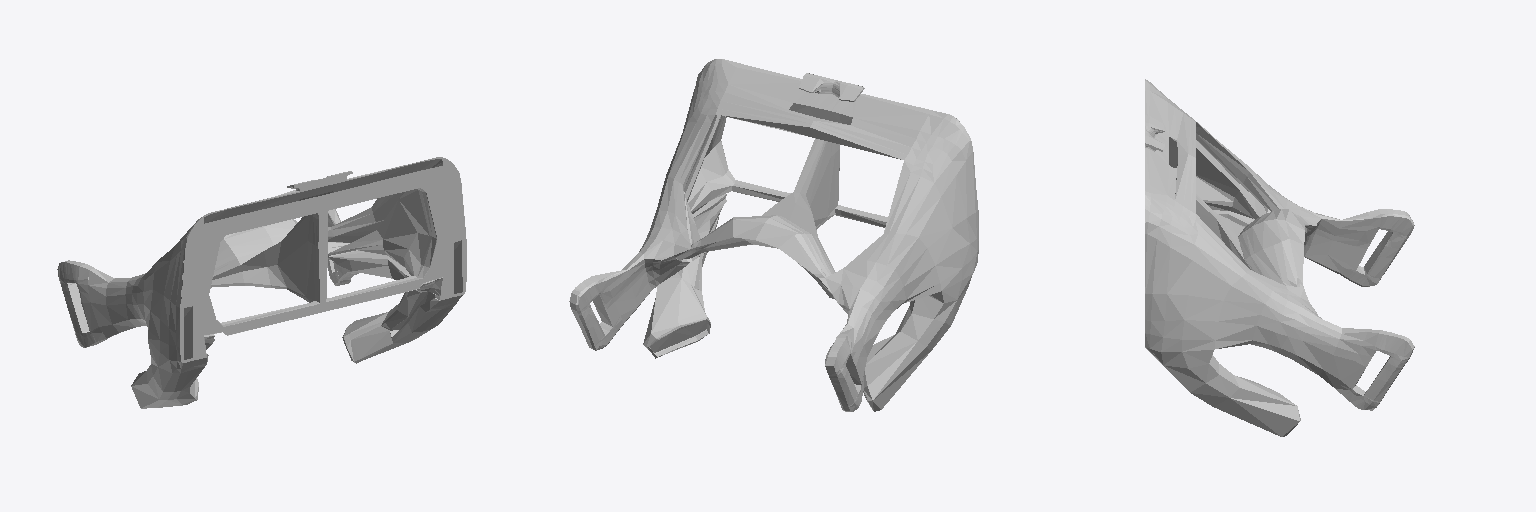
The model's file is Headset_Main_Base.obj.
The picture shows the model from 3 angles: view 1: azimuth 30°, elevation 25°; view 2: azimuth 150°, elevation 25°; view 3: azimuth 270°, elevation 25°; orthographic projection.
Parts seen in each view (by area): view 1: s.0021; view 2: s.0021; view 3: s.0021.
Part boxes in pixels (x1,y1,x2,y2): s.0021: (57, 157, 466, 408); s.0021: (569, 59, 978, 411); s.0021: (1145, 79, 1414, 436).
Bounding box in the file's own units: 186 × 155 × 149.